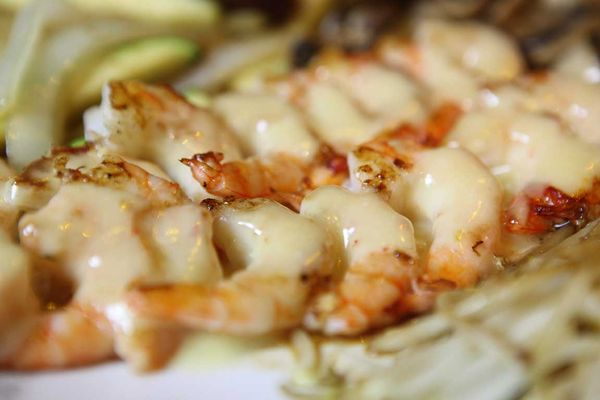sandwich: (2, 0, 600, 382)
